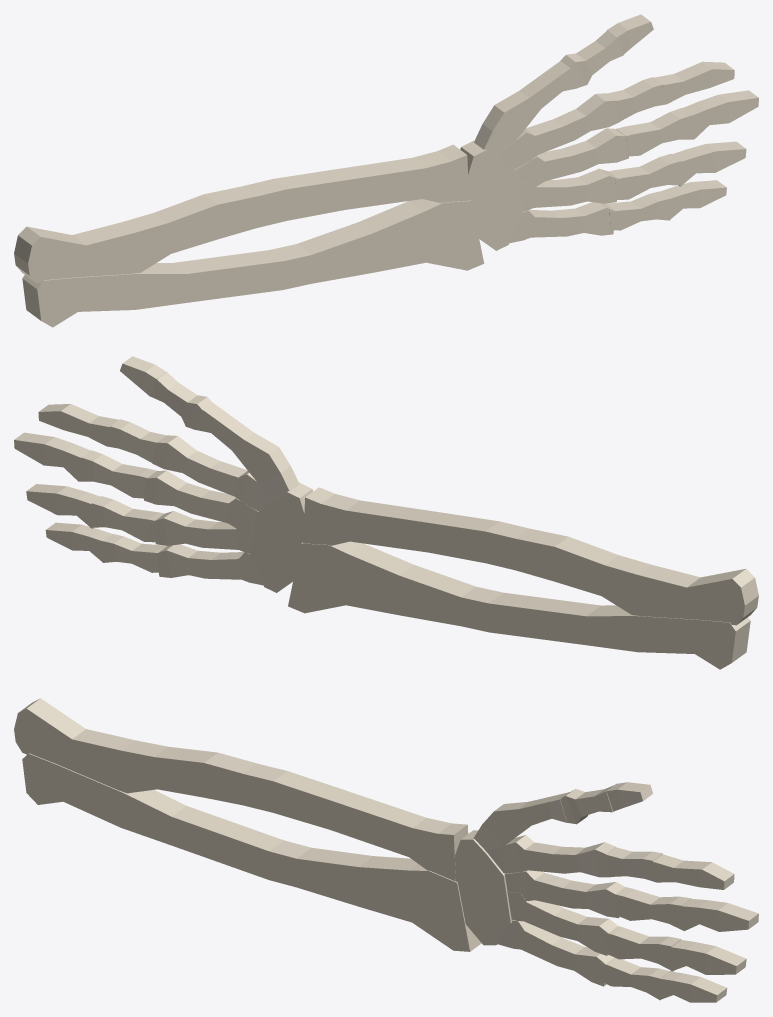
The model's file is Hand.fbx.
The picture shows the model from 3 angles, top to bottom: view 1: azimuth 30°, elevation 25°; view 2: azimuth 150°, elevation 25°; view 3: azimuth 330°, elevation 25°; orthographic projection.
Parts seen in each view (by area): view 1: ForeArm, PalmBone, PointerFingerBone1, MiddleFinger1, PinkyFinger1, Ringer1, ThumbBone2, MiddleFinger2, RingFinger2, MiddleFinger3, PointerFingerBone3, RingFinger3 (+6 smaller); view 2: ForeArm, PalmBone, PointerFingerBone1, MiddleFinger1, PinkyFinger1, Ringer1, ThumbBone2, MiddleFinger2, RingFinger2, MiddleFinger3, RingFinger3, PointerFingerBone3 (+6 smaller); view 3: ForeArm, PalmBone, PointerFingerBone1, MiddleFinger1, PinkyFinger1, Ringer1, RingFinger2, MiddleFinger2, PointerFingerBone3, MiddleFinger3, RingFinger3, ThumbBone2 (+6 smaller).
Boxes of the visible parts, x1=… form: ForeArm: x1=14, y1=144, x2=484, y2=327; PalmBone: x1=460, y1=141, x2=523, y2=250; PointerFingerBone1: x1=496, y1=93, x2=620, y2=169; MiddleFinger1: x1=514, y1=128, x2=628, y2=186; PinkyFinger1: x1=509, y1=202, x2=614, y2=243; Ringer1: x1=519, y1=168, x2=617, y2=211; ThumbBone2: x1=494, y1=61, x2=577, y2=127; MiddleFinger2: x1=616, y1=108, x2=694, y2=156; RingFinger2: x1=608, y1=153, x2=682, y2=199; MiddleFinger3: x1=682, y1=90, x2=758, y2=138; PointerFingerBone3: x1=654, y1=61, x2=734, y2=103; RingFinger3: x1=672, y1=141, x2=746, y2=186; ForeArm: x1=288, y1=487, x2=758, y2=669; PalmBone: x1=249, y1=483, x2=312, y2=592; PointerFingerBone1: x1=152, y1=435, x2=273, y2=511; MiddleFinger1: x1=144, y1=470, x2=258, y2=535; PinkyFinger1: x1=157, y1=544, x2=263, y2=585; Ringer1: x1=154, y1=511, x2=252, y2=553; ThumbBone2: x1=196, y1=403, x2=278, y2=468; MiddleFinger2: x1=78, y1=450, x2=157, y2=498; RingFinger2: x1=89, y1=496, x2=164, y2=542; MiddleFinger3: x1=14, y1=432, x2=90, y2=481; RingFinger3: x1=26, y1=484, x2=100, y2=528; PointerFingerBone3: x1=38, y1=404, x2=118, y2=445; ForeArm: x1=14, y1=698, x2=481, y2=951; PalmBone: x1=455, y1=830, x2=512, y2=945; PointerFingerBone1: x1=485, y1=835, x2=615, y2=877; MiddleFinger1: x1=504, y1=870, x2=624, y2=918; PinkyFinger1: x1=497, y1=920, x2=614, y2=986; Ringer1: x1=507, y1=891, x2=617, y2=955; RingFinger2: x1=605, y1=926, x2=681, y2=971; MiddleFinger2: x1=615, y1=887, x2=691, y2=930; PointerFingerBone3: x1=653, y1=854, x2=734, y2=889; MiddleFinger3: x1=681, y1=899, x2=758, y2=931; RingFinger3: x1=670, y1=940, x2=746, y2=974; ThumbBone2: x1=494, y1=792, x2=569, y2=836.
Size of the model in its own units: 93.6 by 24.89 by 3.4.
